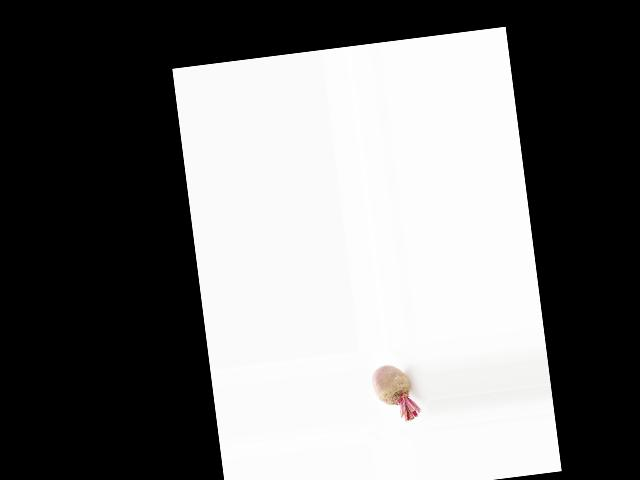beet: (370, 361, 422, 424)
